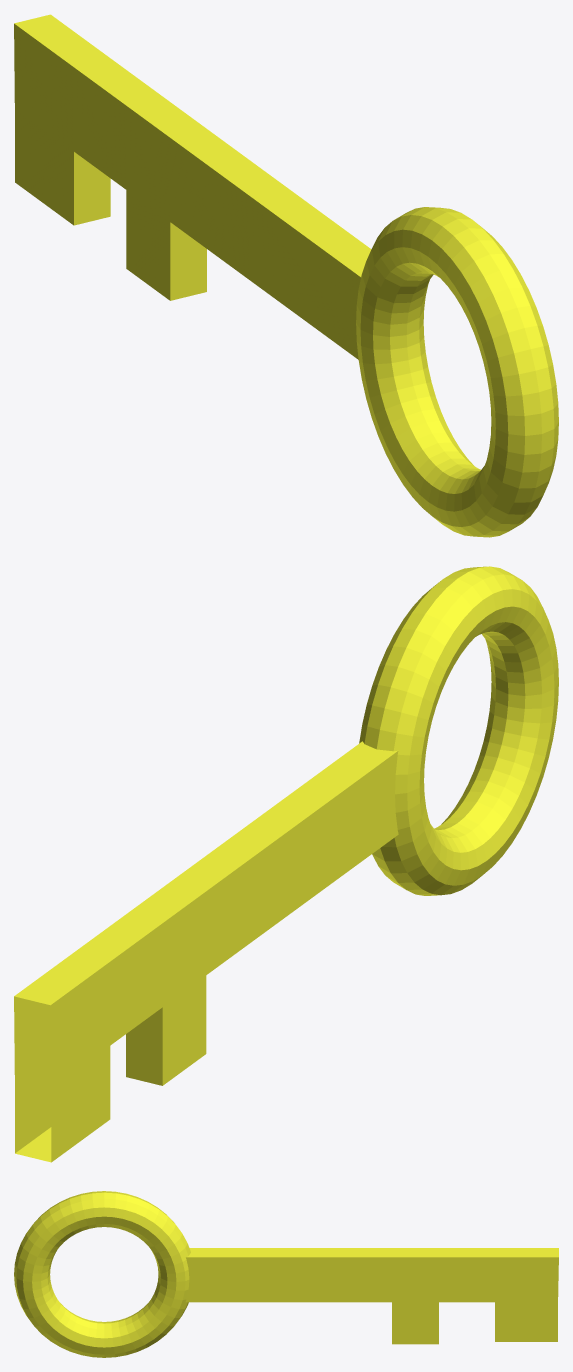
The model's file is Key.fbx.
3 renders of one model, top to bottom at view 1: azimuth 30°, elevation 25°; view 2: azimuth 150°, elevation 25°; view 3: azimuth 270°, elevation 25°, orthographic. The views are drawn at different scales.
Visible parts, largest first — view 1: Cube; view 2: Cube; view 3: Cube.
Boxes of the visible parts, x1,y1,x2,y2 form: Cube: (14,14,558,537); Cube: (14,566,558,1162); Cube: (14,1191,558,1357).
Size of the model in its own units: 50 by 250 by 755.
